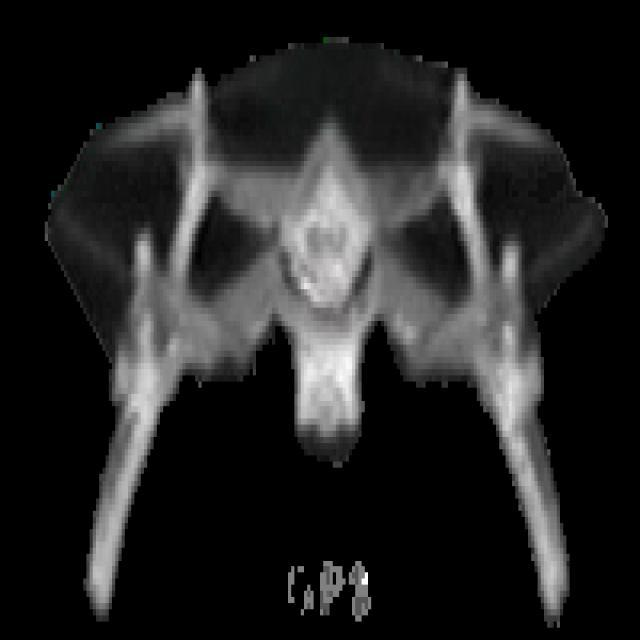drone: (44, 31, 596, 616)
